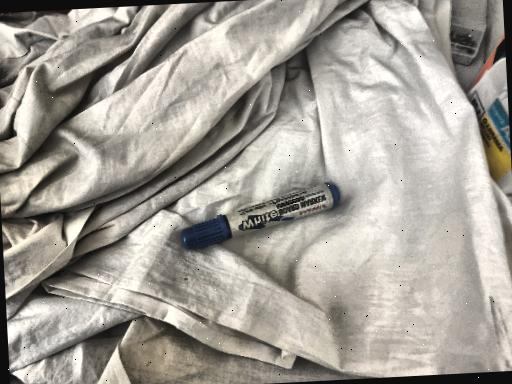marcador azul: (180, 183, 340, 249)
